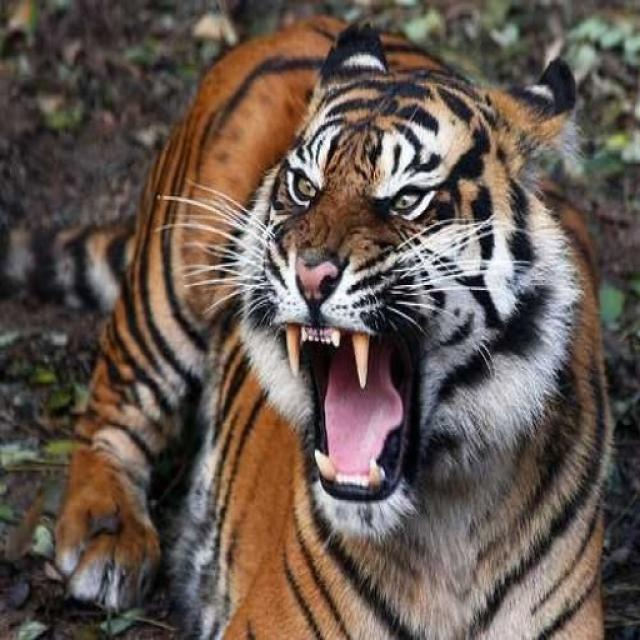tiger: (49, 12, 615, 639)
